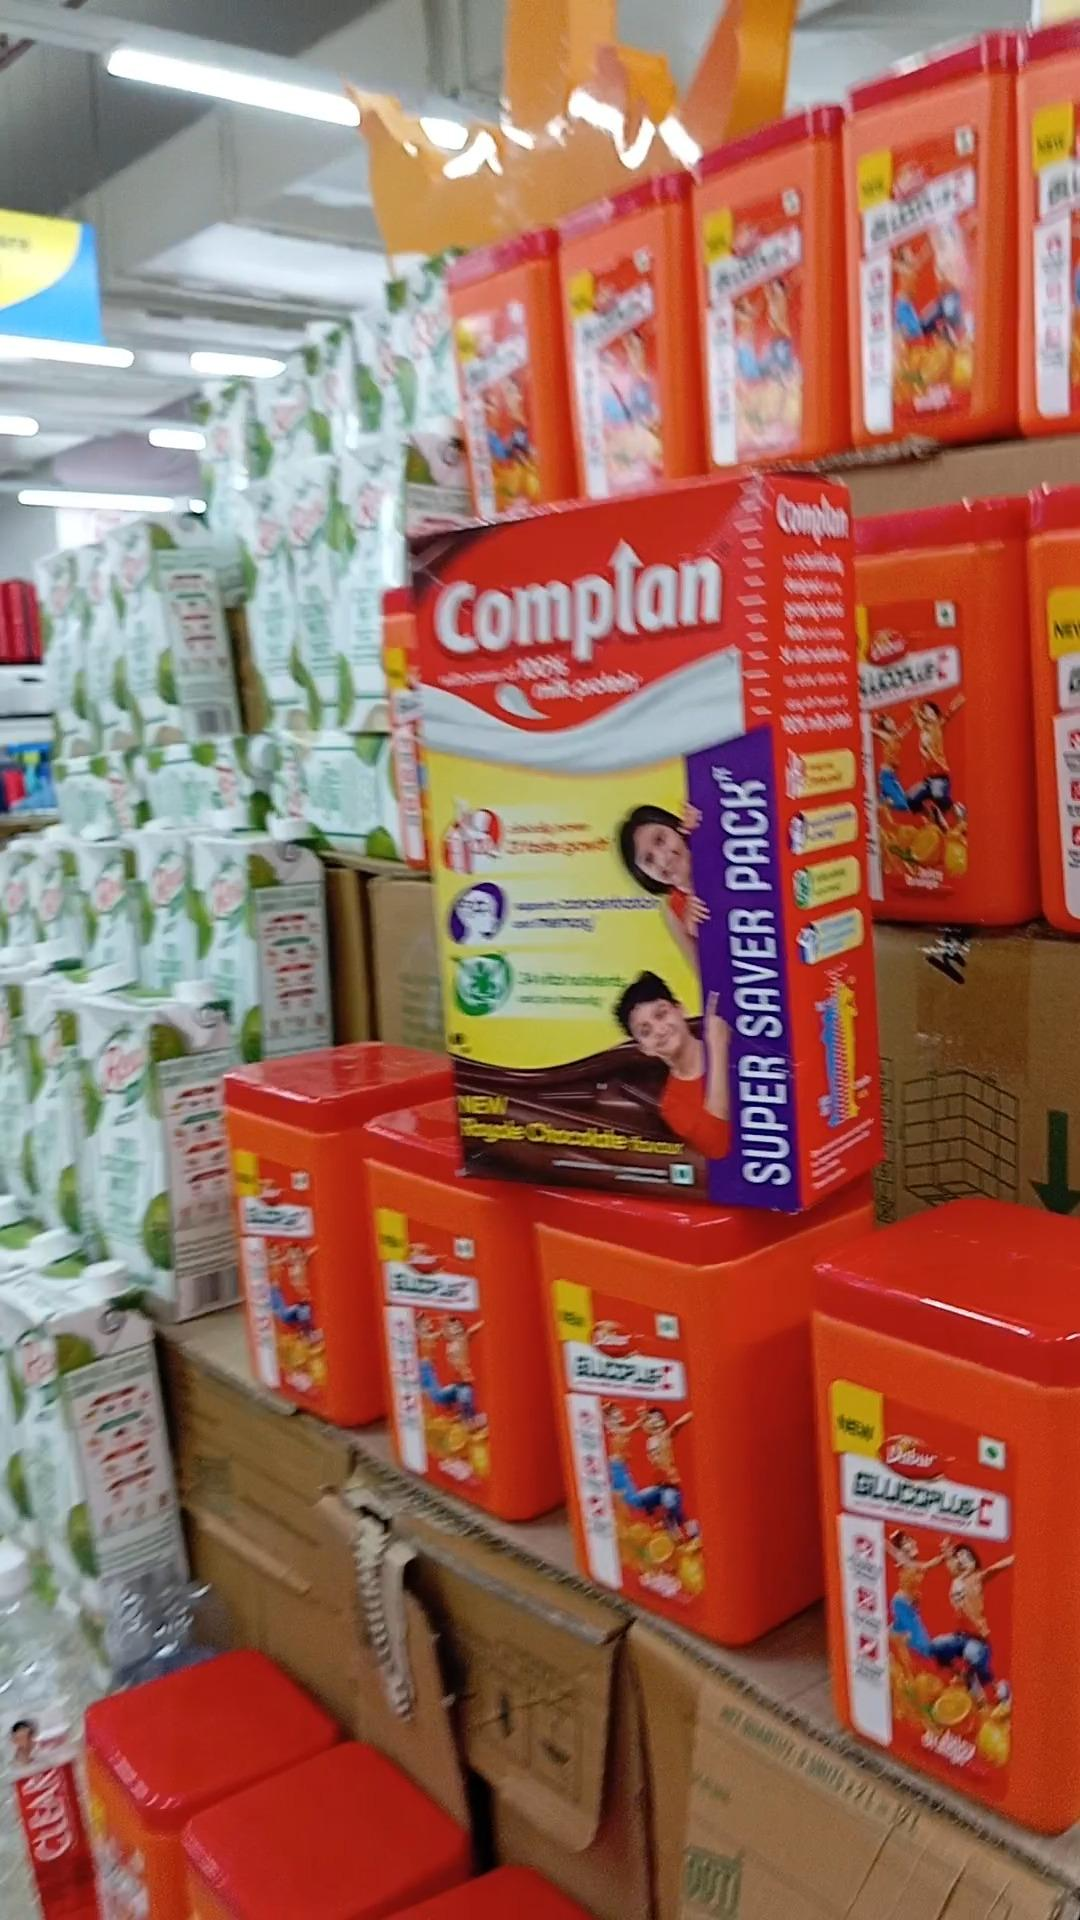COMPLAN_CHOCOLATE_1_KG_PACK: (409, 469, 790, 1205)
